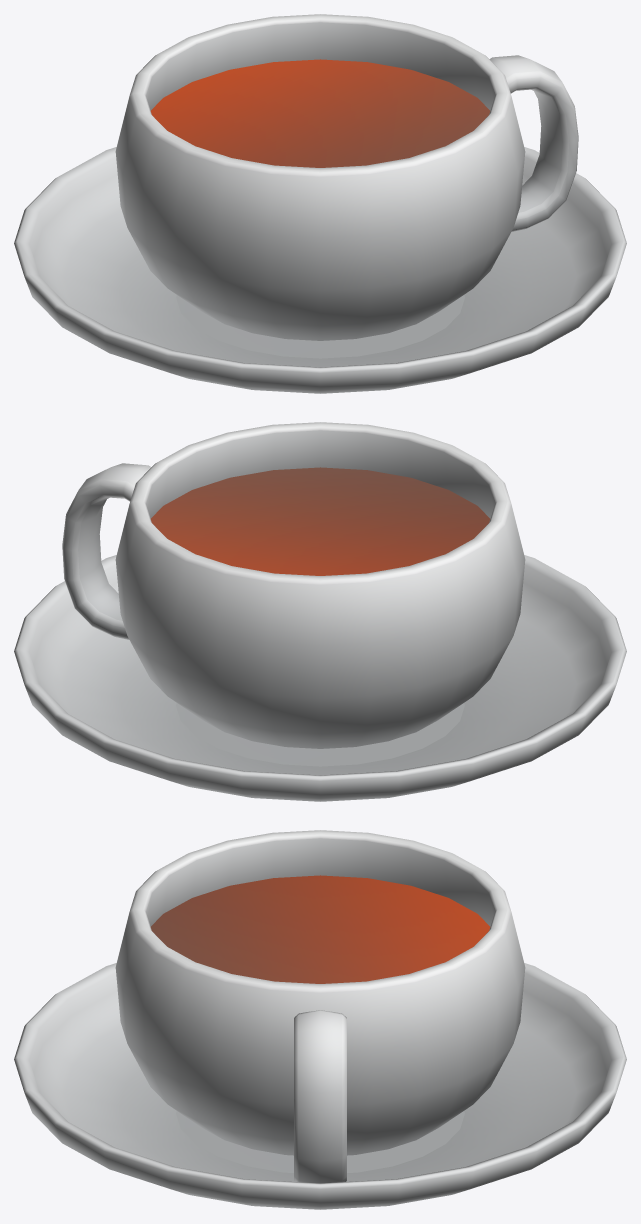
File: tea_004.fbx
3 renders of one model, top to bottom at view 1: azimuth 30°, elevation 25°; view 2: azimuth 150°, elevation 25°; view 3: azimuth 270°, elevation 25°, orthographic.
Visible parts, largest first — view 1: tea_004; view 2: tea_004; view 3: tea_004.
Boxes of the visible parts, bbox=[...] form: tea_004: bbox=[14, 14, 626, 393]; tea_004: bbox=[14, 422, 626, 801]; tea_004: bbox=[14, 830, 626, 1209].
Bounding box in the file's own units: 14.3 × 14.3 × 5.46.
